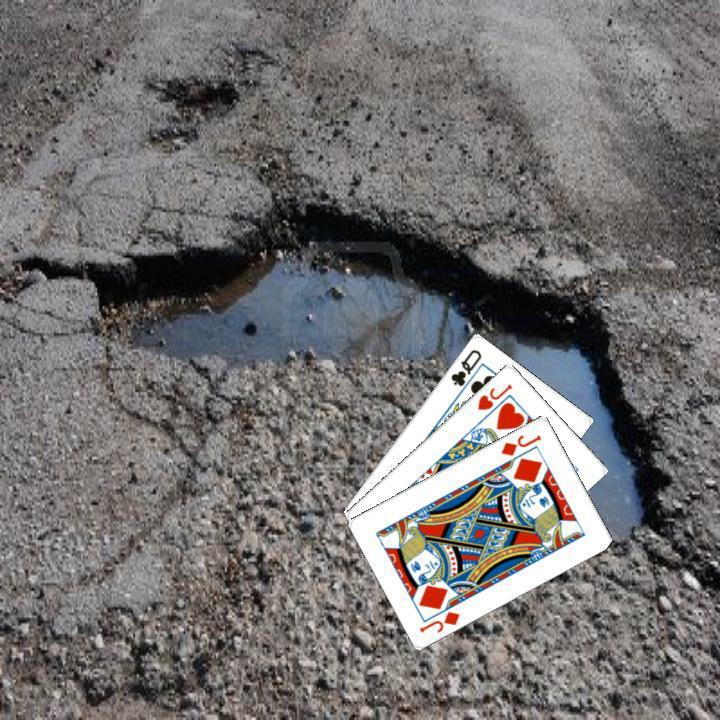J: (415, 606, 462, 635), (473, 379, 514, 412), (496, 430, 543, 458)
Q: (446, 344, 484, 388)
